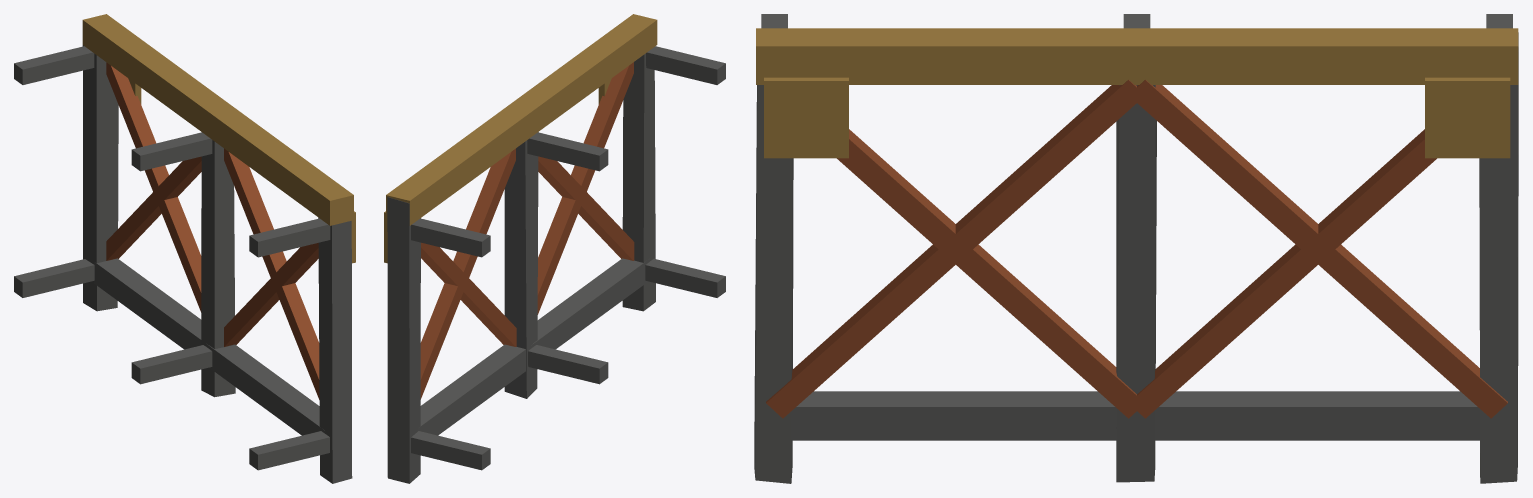
Rendered from arm_reinforced_cage.glb.
3 renders of one model, left to right at view 1: azimuth 30°, elevation 25°; view 2: azimuth 150°, elevation 25°; view 3: azimuth 270°, elevation 25°, orthographic. The views are drawn at different scales.
Visible parts, largest first — view 1: arm_reinforced_cage; view 2: arm_reinforced_cage; view 3: arm_reinforced_cage.
Boxes of the visible parts, <box> form: arm_reinforced_cage: <box>14,14,355,483</box>; arm_reinforced_cage: <box>384,14,725,483</box>; arm_reinforced_cage: <box>754,14,1518,483</box>.
Bounding box in the file's own units: 0.33 × 0.9089 × 1.44.
